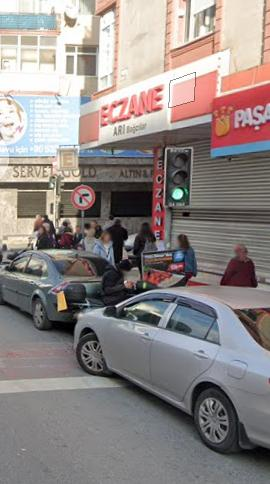greenlight: (167, 148, 191, 207)
leftturnsareforbidden: (72, 186, 94, 209)
